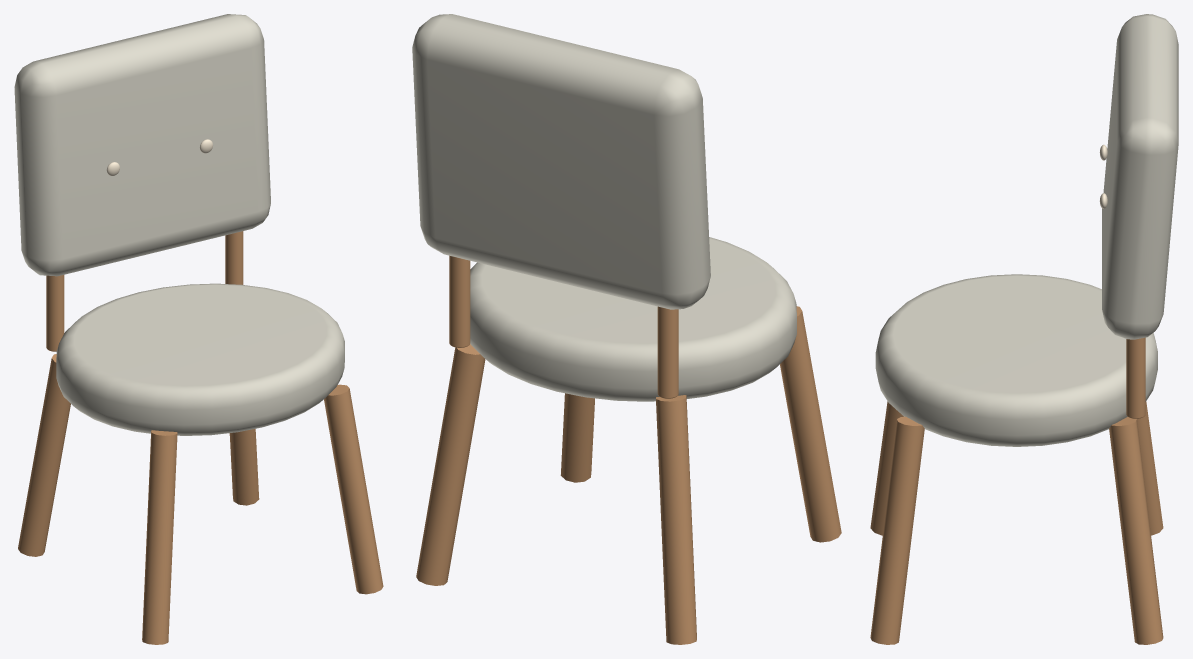
File: kitchenChairUpholstered.glb
The picture shows the model from 3 angles, left to right: view 1: azimuth 30°, elevation 25°; view 2: azimuth 150°, elevation 25°; view 3: azimuth 270°, elevation 25°; orthographic projection. The views are drawn at different scales.
Parts seen in each view (by area): view 1: Rounded dining chair back, Dining chair seat, Splayed chair leg, Splayed chair leg.002, Splayed chair leg.001, Splayed chair leg.003, Dining chair back support, Dining chair back support.001; view 2: Rounded dining chair back, Dining chair seat, Splayed chair leg.001, Splayed chair leg.003, Splayed chair leg, Splayed chair leg.002, Dining chair back support, Dining chair back support.001; view 3: Dining chair seat, Rounded dining chair back, Splayed chair leg.002, Splayed chair leg.003, Splayed chair leg, Dining chair back support.001, Splayed chair leg.001.
Boxes of the visible parts, box(x1,y1,x2,y2) form: Rounded dining chair back: box(14, 14, 270, 276); Dining chair seat: box(56, 283, 344, 435); Splayed chair leg: box(142, 430, 177, 644); Splayed chair leg.002: box(324, 384, 383, 594); Splayed chair leg.001: box(18, 354, 70, 556); Splayed chair leg.003: box(229, 429, 259, 505); Dining chair back support: box(46, 275, 64, 351); Dining chair back support.001: box(225, 231, 243, 284); Rounded dining chair back: box(412, 14, 710, 309); Dining chair seat: box(470, 237, 796, 401); Splayed chair leg.001: box(656, 395, 696, 644); Splayed chair leg.003: box(416, 344, 485, 585); Splayed chair leg: box(780, 306, 841, 542); Splayed chair leg.002: box(560, 393, 594, 482); Dining chair back support: box(657, 306, 678, 398); Dining chair back support.001: box(449, 255, 470, 347); Dining chair seat: box(875, 274, 1157, 446); Rounded dining chair back: box(1102, 14, 1178, 339); Splayed chair leg.002: box(870, 416, 924, 644); Splayed chair leg.003: box(1109, 417, 1163, 644); Splayed chair leg: box(870, 401, 903, 535); Dining chair back support.001: box(1126, 337, 1145, 418); Splayed chair leg.001: box(1137, 401, 1163, 535).
Bounding box in the file's own units: 0.72 × 1.3 × 0.6991.
